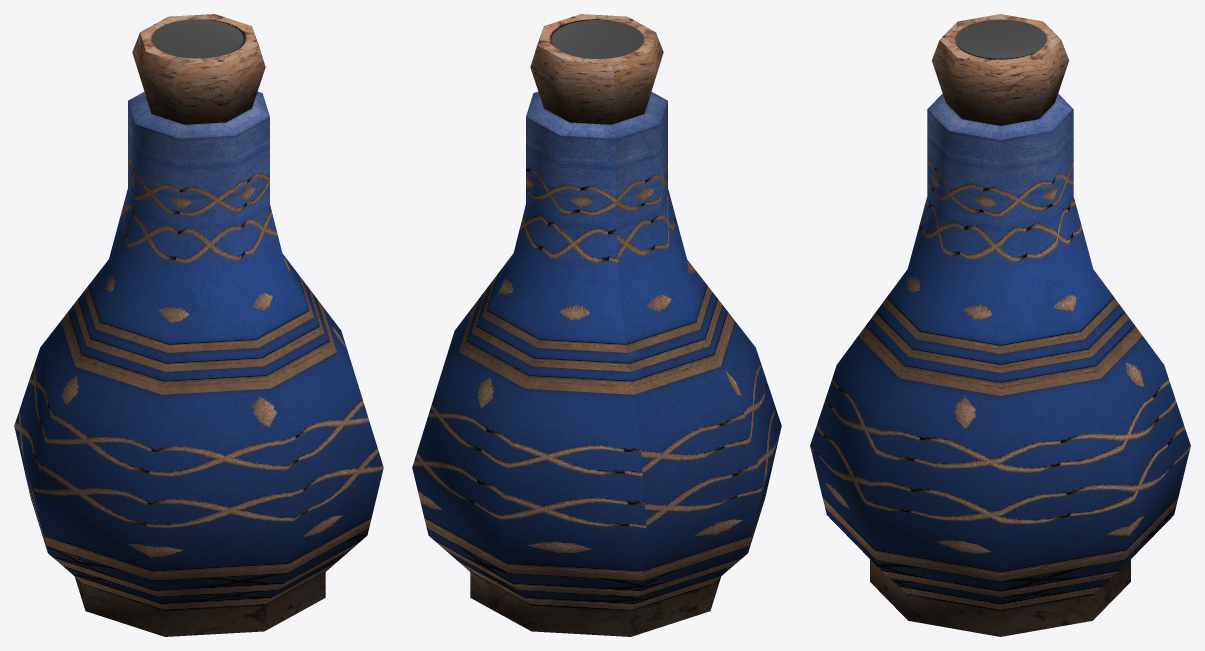
Rendered from blue_bottle.obj.
3 renders of one model, left to right at view 1: azimuth 30°, elevation 25°; view 2: azimuth 150°, elevation 25°; view 3: azimuth 270°, elevation 25°, orthographic.
Visible parts, largest first — view 1: small_health_poti.004_Cylinder.007; view 2: small_health_poti.004_Cylinder.007; view 3: small_health_poti.004_Cylinder.007.
Boxes of the visible parts, left/top/right/bottom form: small_health_poti.004_Cylinder.007: left=14, top=14, right=383, bottom=636; small_health_poti.004_Cylinder.007: left=412, top=14, right=781, bottom=636; small_health_poti.004_Cylinder.007: left=810, top=14, right=1190, bottom=636.
Bounding box in the file's own units: 0.2849 × 0.4474 × 0.2849.
Materials: 2 (2 with a texture image).
